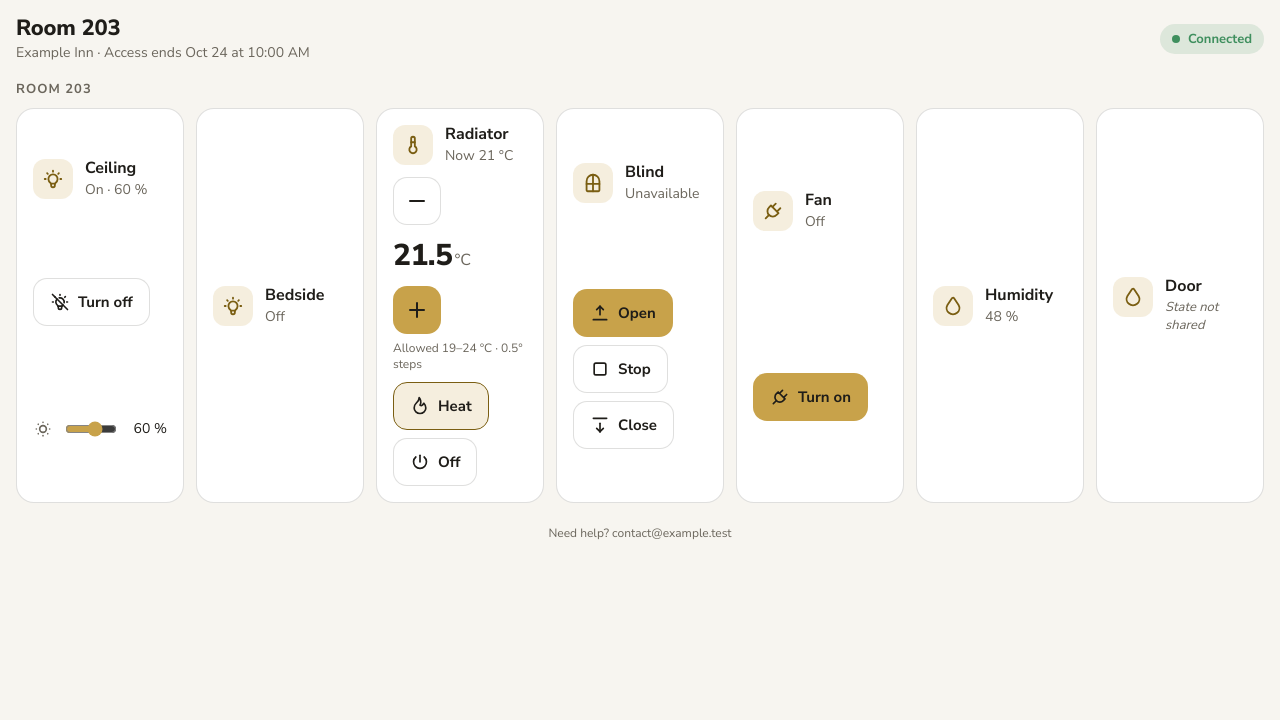
it: a click answered late keeps its click time, a 5xx is unknown
Click the button "Turn off" at (91, 302), box [33,278,150,326]
Wait 20000 ms
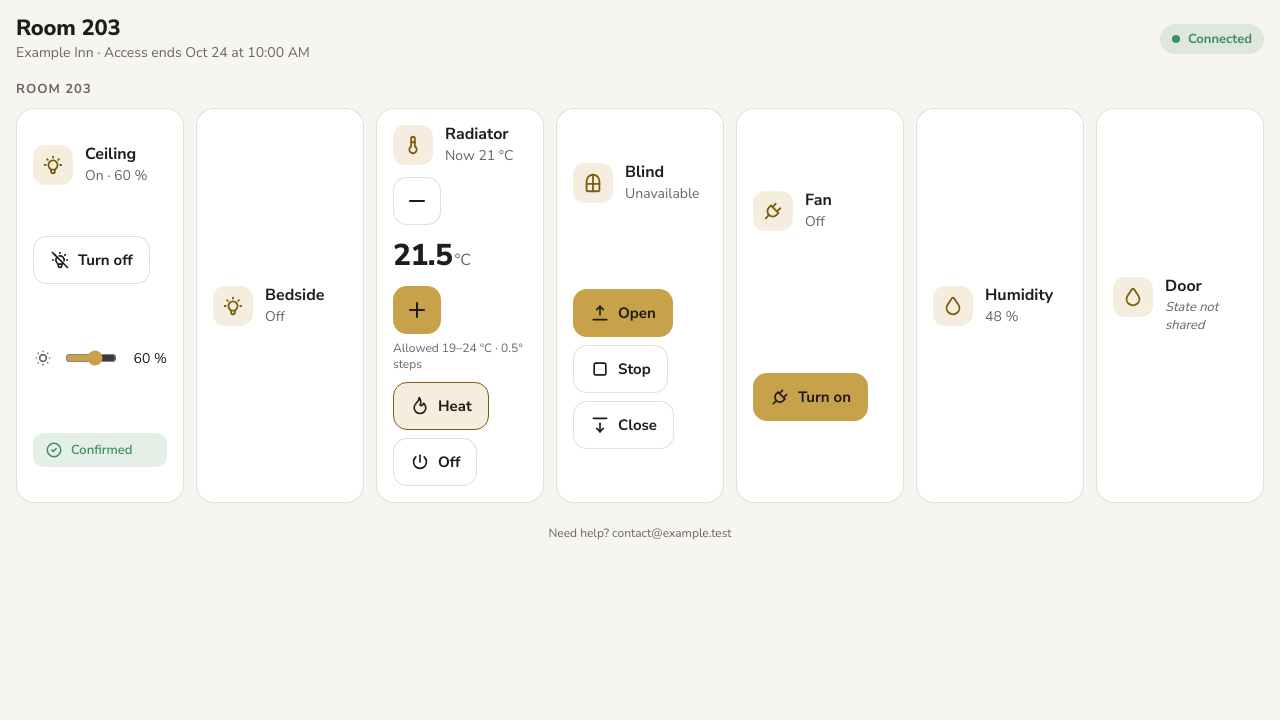
Check: the text "Confirmed" is shown, box [71,441,132,459]
